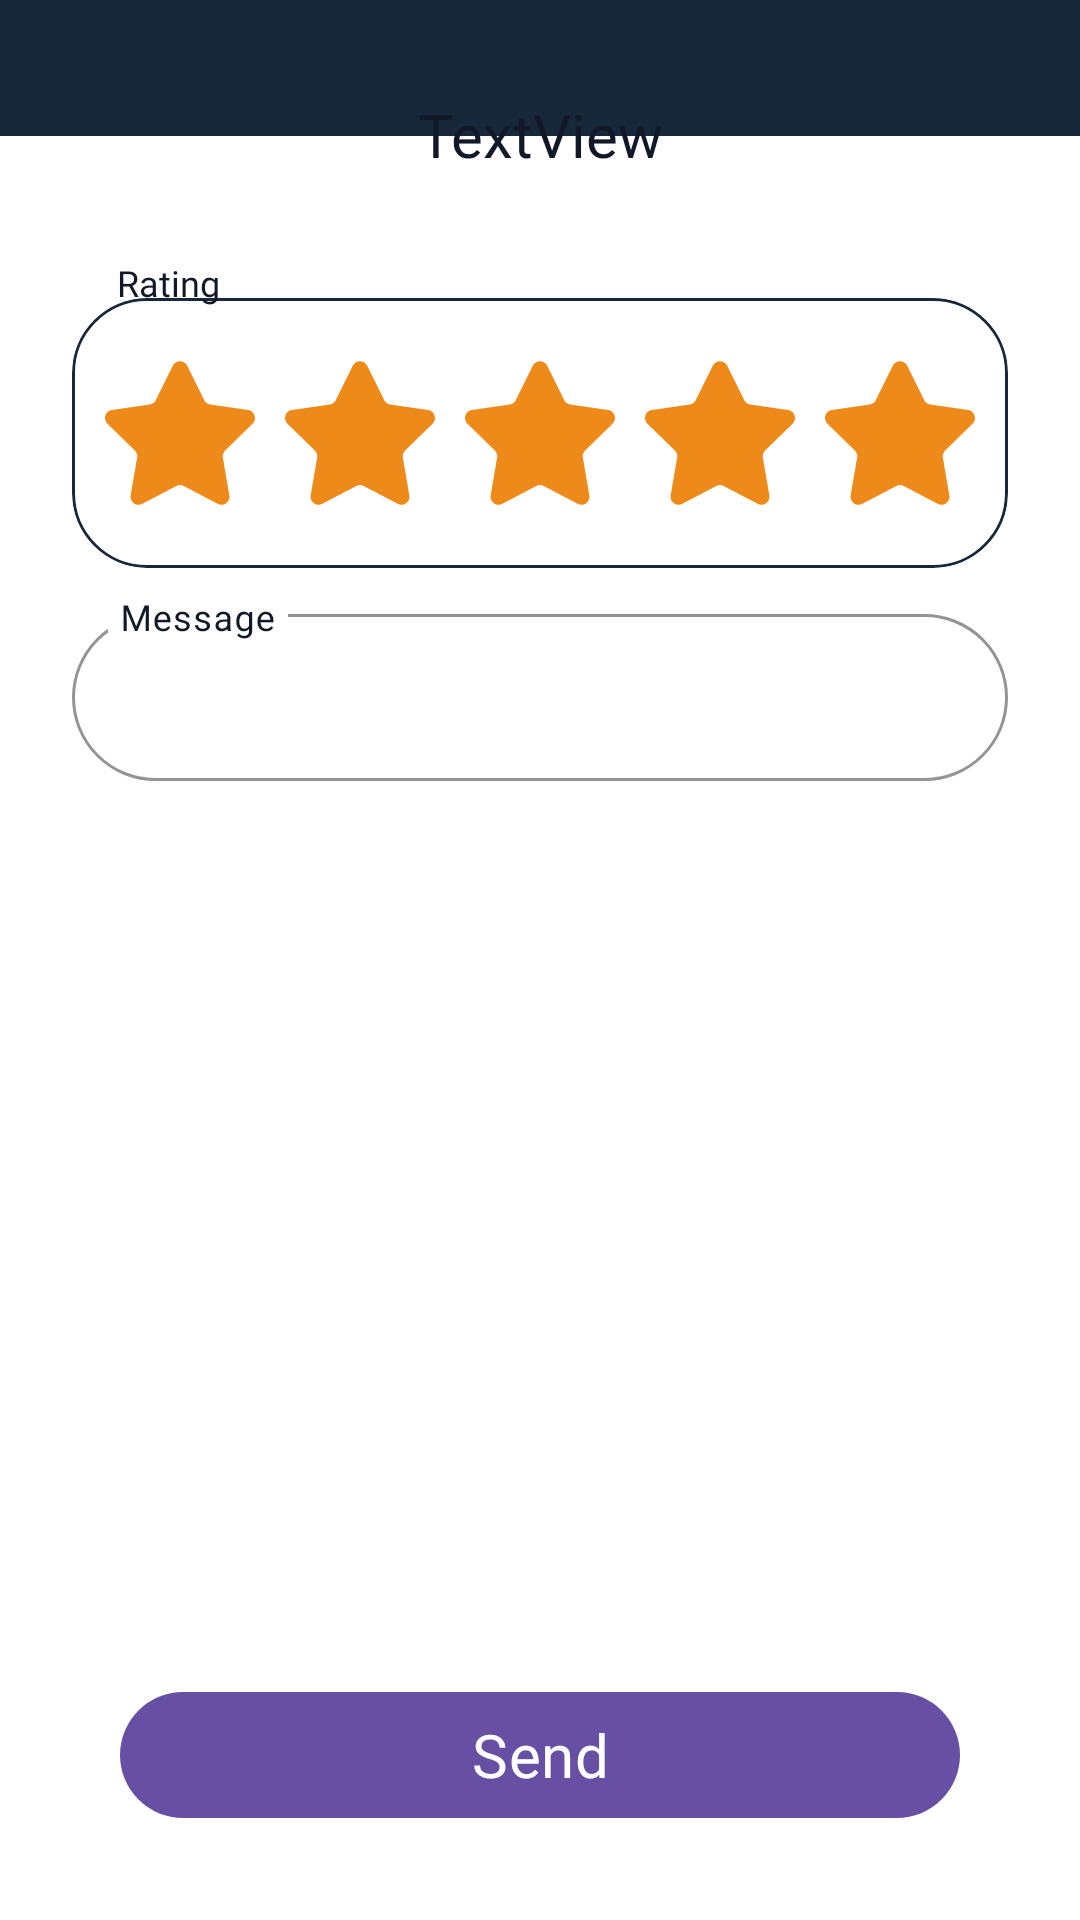

Icons on this 1080*1920 Android screen, each with the point to tap as [x,y]:
star: [180,433], [360,433], [540,433], [720,433], [900,433]
